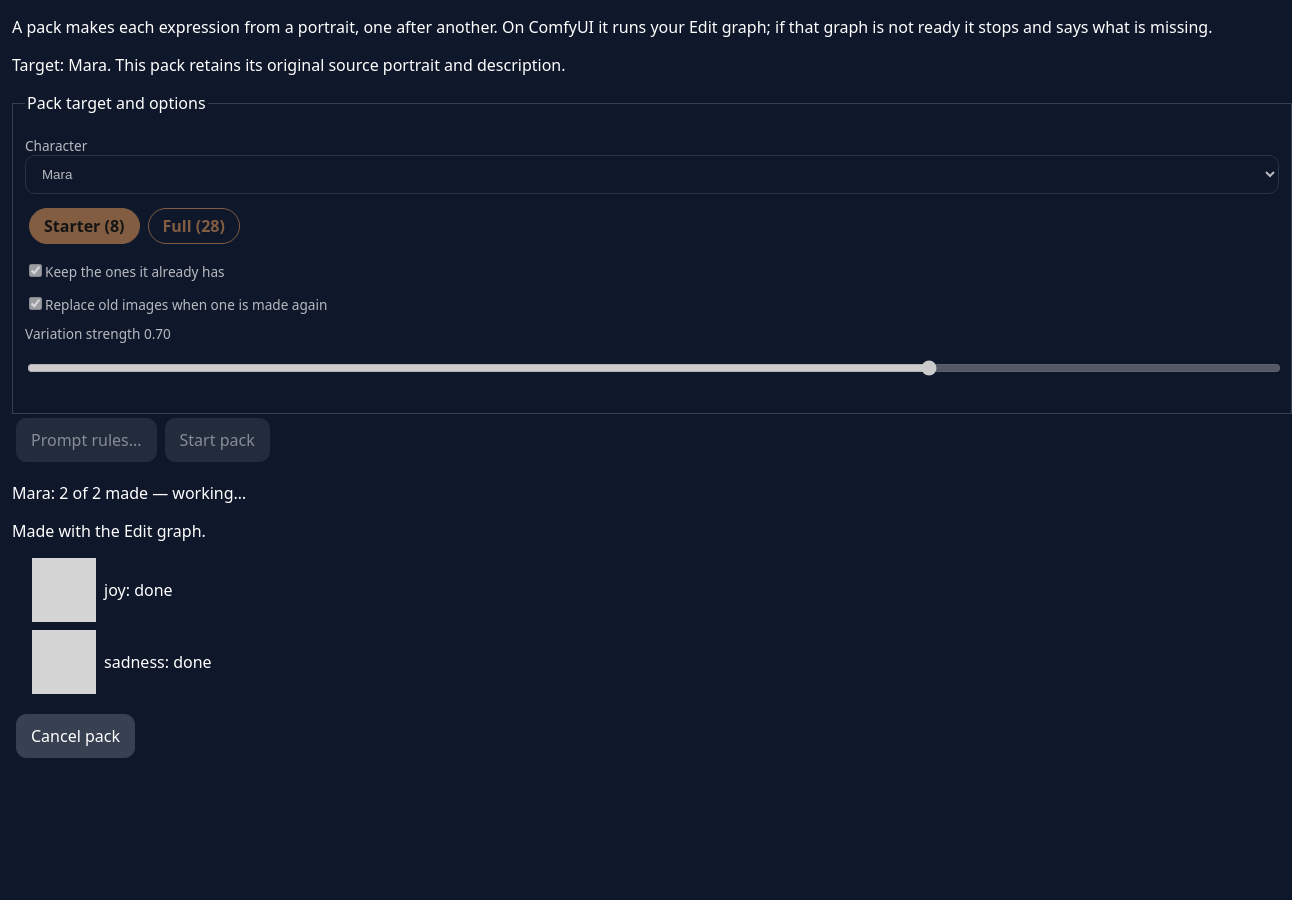
Scenario: watching a pack › says the pack stopped once it has been cancelled
Step 1. Click the button "Cancel pack" → (76, 736), box x1=16 y1=714 x2=135 y2=758
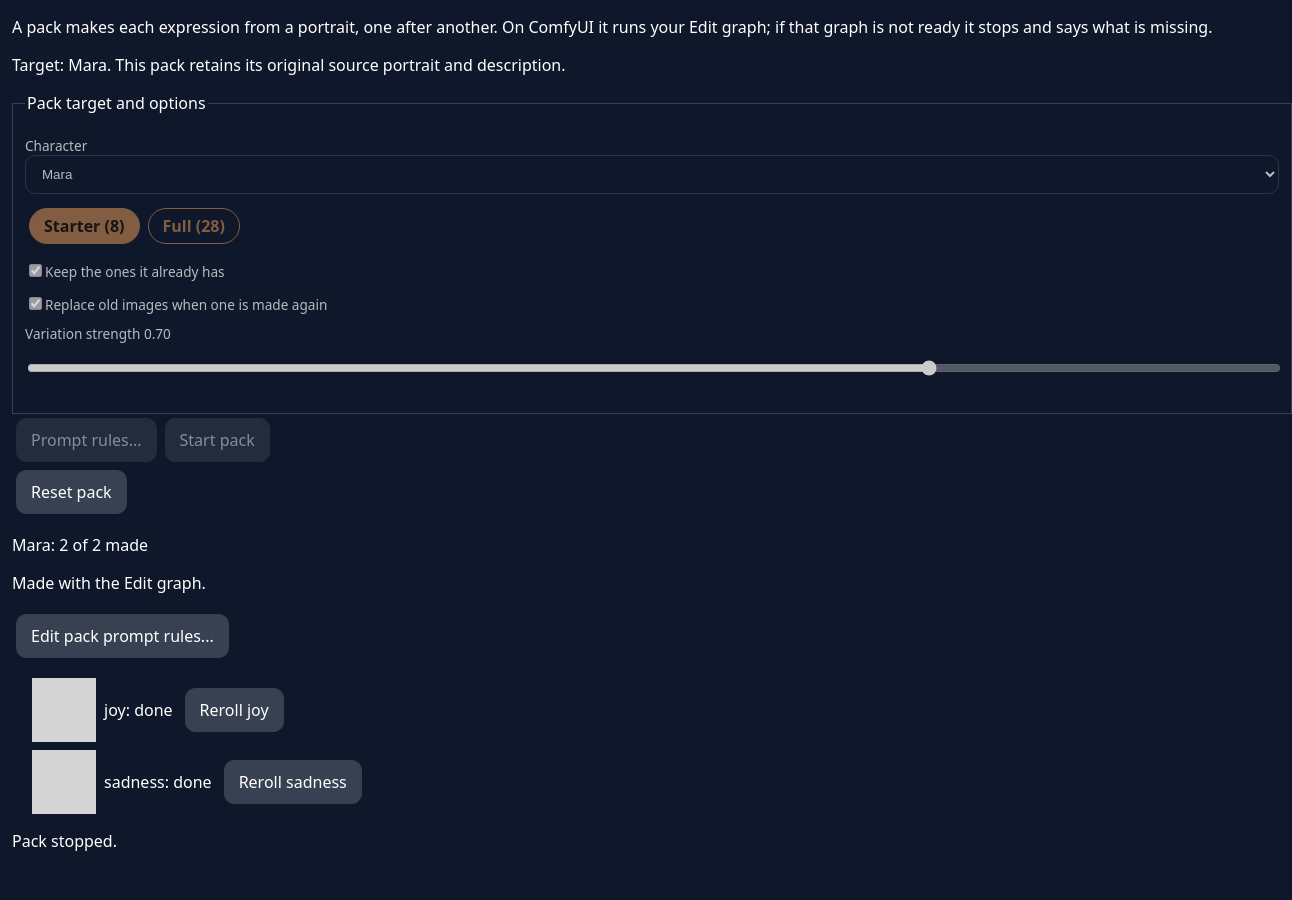
Result: the message "Pack stopped." is shown at x1=12 y1=830 x2=117 y2=852
